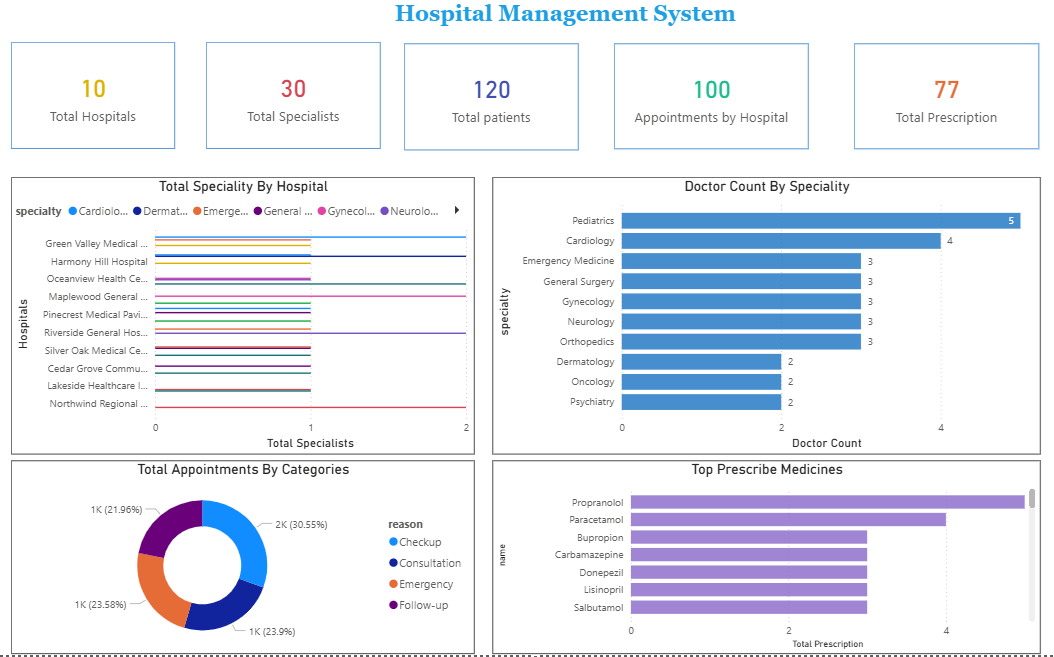

Layout of this report page (visuals, bound fields, positions):
{"tool":"powerbi","page":{"name":"Total Summary","canvas":[1293,800],"ordinal":0},"visuals":[{"type":"clusteredBarChart","title":"Total Speciality By Hospital ","fields":{"Category":["hospitals.name"],"Y":["doctors.Total Specialists"],"Series":["doctors.specialty"]},"box":[33,225.9,555.8,332.4],"z":0},{"type":"textbox","box":[267,8.3,868.8,56],"z":1000},{"type":"card","fields":{"Values":["appointments.Total Hospitals"]},"box":[33,64.7,196.7,128.2],"z":2000},{"type":"card","fields":{"Values":["doctors.Total Specialists"]},"box":[266.5,64.7,209.4,128.2],"z":3000},{"type":"card","fields":{"Values":["appointments.Total patients"]},"box":[503.7,66,209.4,128.2],"z":4000},{"type":"card","fields":{"Values":["appointments.Appointments by Hospital"]},"box":[755,66,233.5,126.9],"z":5000},{"type":"card","fields":{"Values":["prescriptions.Total Prescription"]},"box":[1044.3,66,222.1,126.9],"z":6000},{"type":"donutChart","title":"Total Appointments By Categories","fields":{"Y":["Sum(appointments.appointment_id)"],"Series":["appointments.reason"]},"box":[33,567.2,555.8,232.2],"z":7000},{"type":"clusteredBarChart","title":"Doctor Count By Speciality","fields":{"Category":["doctors.specialty"],"Y":["CountNonNull(doctors.doctor_id)"]},"box":[609.1,225.9,657.3,332.4],"z":8000},{"type":"clusteredBarChart","title":"Top Prescribe Medicines","fields":{"Category":["medications.name"],"Y":["CountNonNull(prescriptions.prescription_id)"]},"box":[609.1,567.2,657.3,232.2],"z":9000}]}

Visuals, with their boxes in screenshot pixels (x1, y1, x2, y2), scaled from the page's 1293x800 canvas onto the 1054x657 screenshot:
"Total Speciality By Hospital " clusteredBarChart: select_region(27, 186, 480, 459)
textbox: select_region(218, 7, 926, 53)
card - appointments.Total Hospitals: select_region(27, 53, 187, 158)
card - doctors.Total Specialists: select_region(217, 53, 388, 158)
card - appointments.Total patients: select_region(411, 54, 581, 159)
card - appointments.Appointments by Hospital: select_region(615, 54, 806, 158)
card - prescriptions.Total Prescription: select_region(851, 54, 1032, 158)
"Total Appointments By Categories" donutChart: select_region(27, 466, 480, 656)
"Doctor Count By Speciality" clusteredBarChart: select_region(497, 186, 1032, 459)
"Top Prescribe Medicines" clusteredBarChart: select_region(497, 466, 1032, 656)
